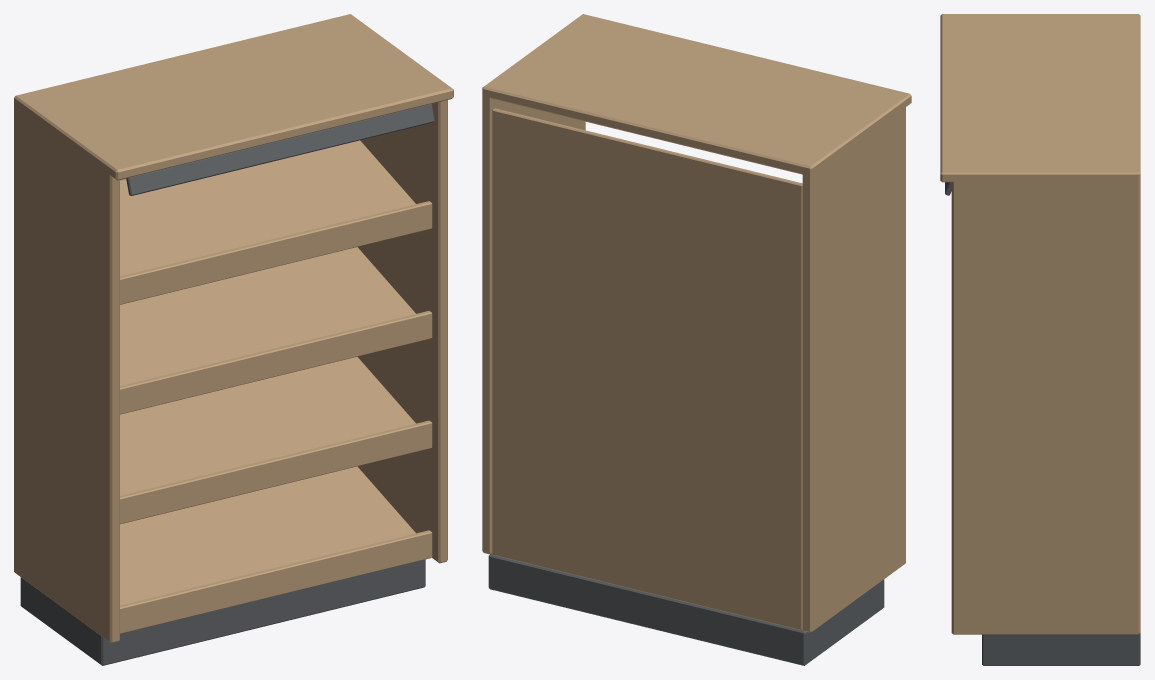
File: bakery-and-cafe-bread-display-bay-b3d8b906__22157.glb
The picture shows the model from 3 angles, left to right: view 1: azimuth 30°, elevation 25°; view 2: azimuth 150°, elevation 25°; view 3: azimuth 270°, elevation 25°; orthographic projection. The views are drawn at different scales.
Parts seen in each view (by area): view 1: bread-display-bay; view 2: bread-display-bay; view 3: bread-display-bay.
Part boxes in pixels (box(x1,y1,x2,y2)): bread-display-bay: box(14, 14, 453, 665); bread-display-bay: box(482, 14, 911, 665); bread-display-bay: box(940, 14, 1140, 665).
Size of the model in its own units: 0.9999 by 1.45 by 0.53.
